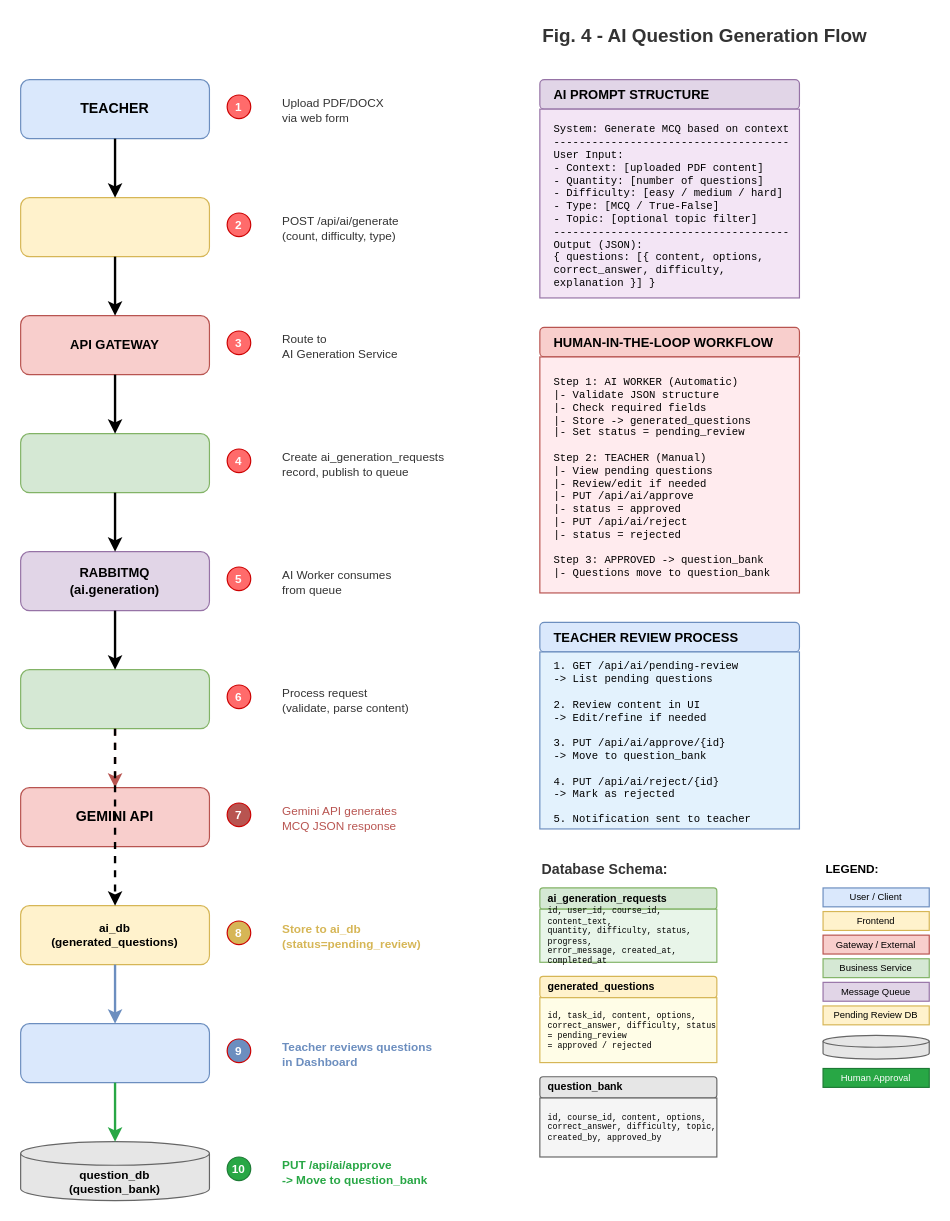
Some shapes in this 950 by 1221 pixel diagram are drawn without their labels. Here are the shapes that lost their labels. From the top down, the centre of each, then its label:
(114,226): FRONTEND (React)
(114,462): AI GENERATION SERVICE
(114,698): AI WORKER
(114,1052): TEACHER REVIEW
(875,1046): Approved DB
